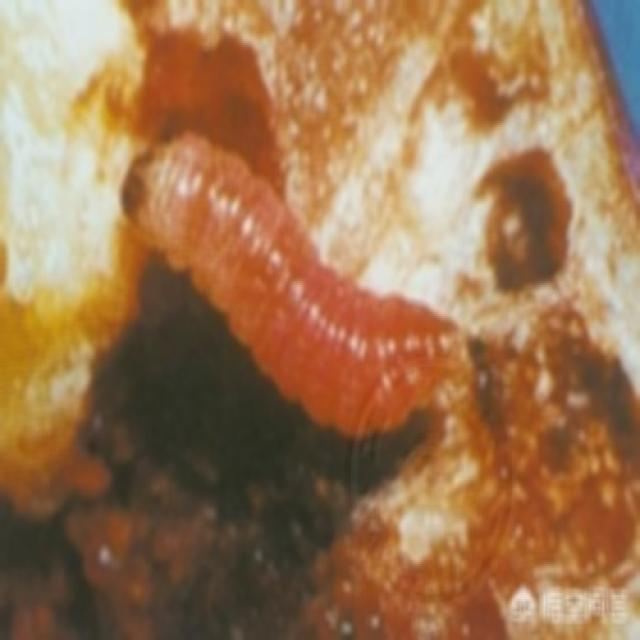peach borer: (129, 128, 486, 436)
